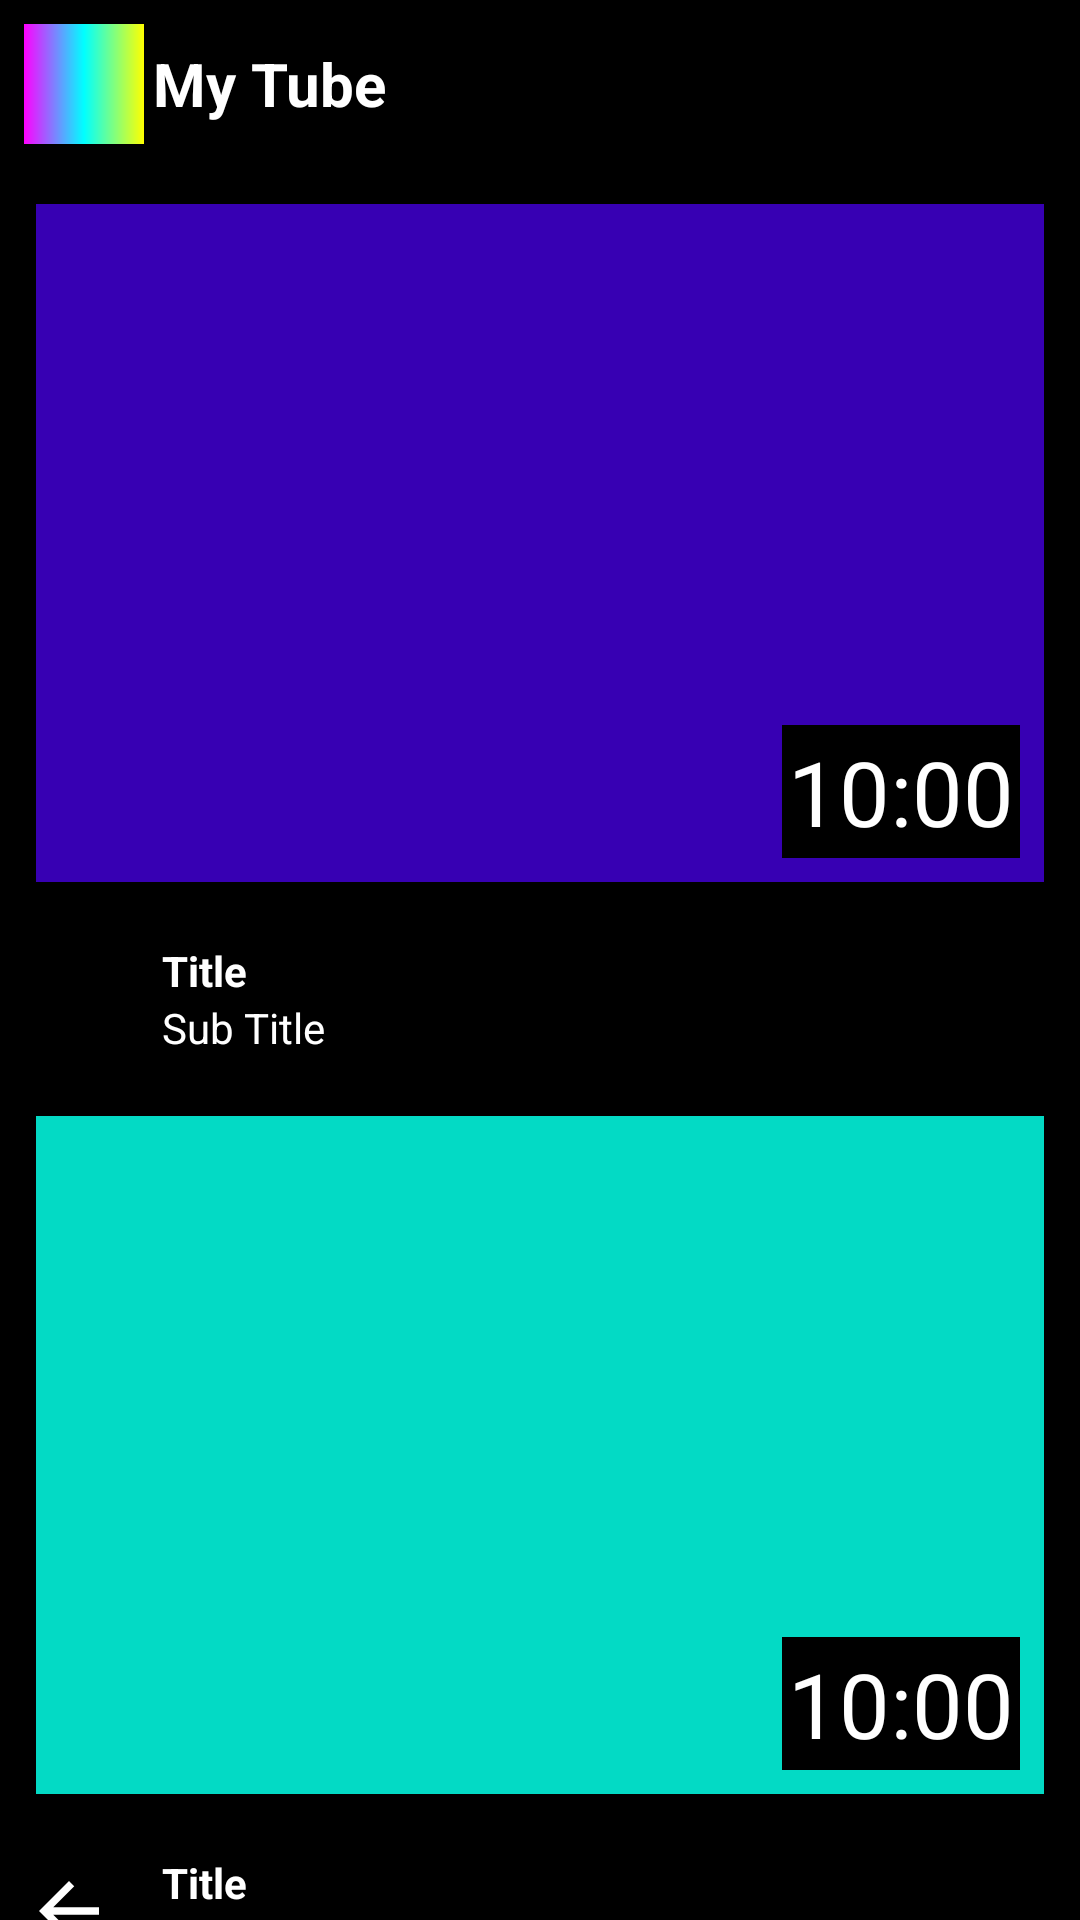

Where to tap for icons on this 1080px×1920px app screen, as [x,y]:
grad: [84,84]
